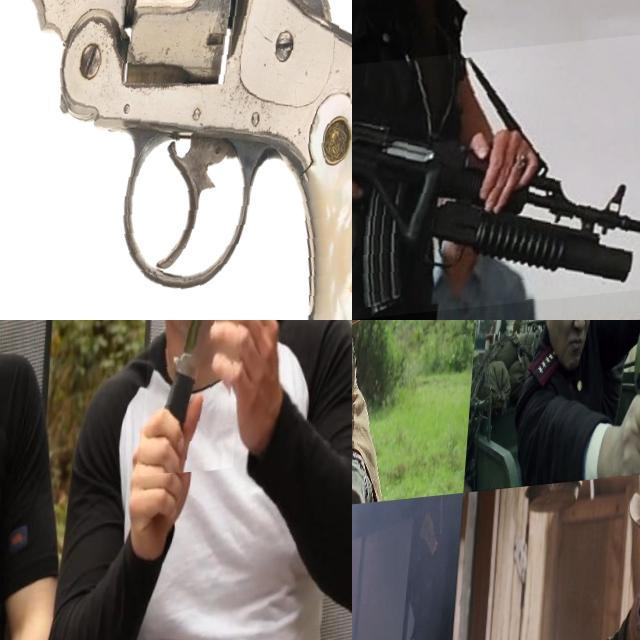-: (145, 320, 257, 485)
gun-knife-thesis - v11 Yolov5 augmented: (0, 0, 352, 320), (352, 40, 640, 320), (352, 338, 411, 522), (352, 591, 398, 640)
